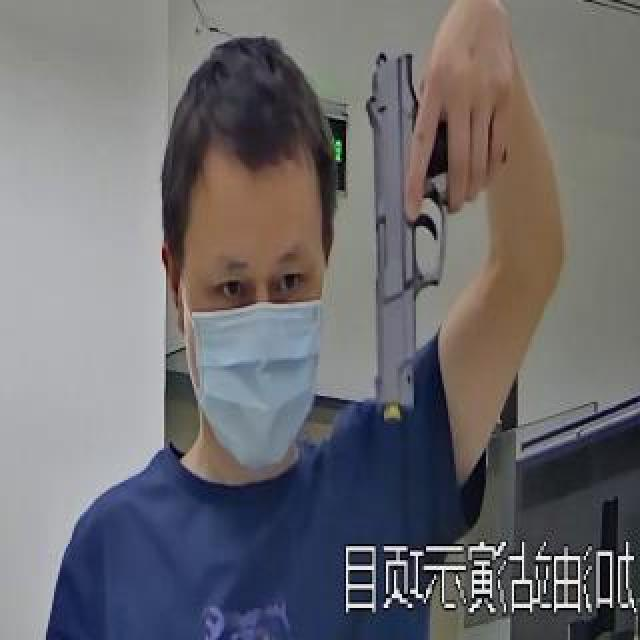Guns: (337, 1, 523, 464)
